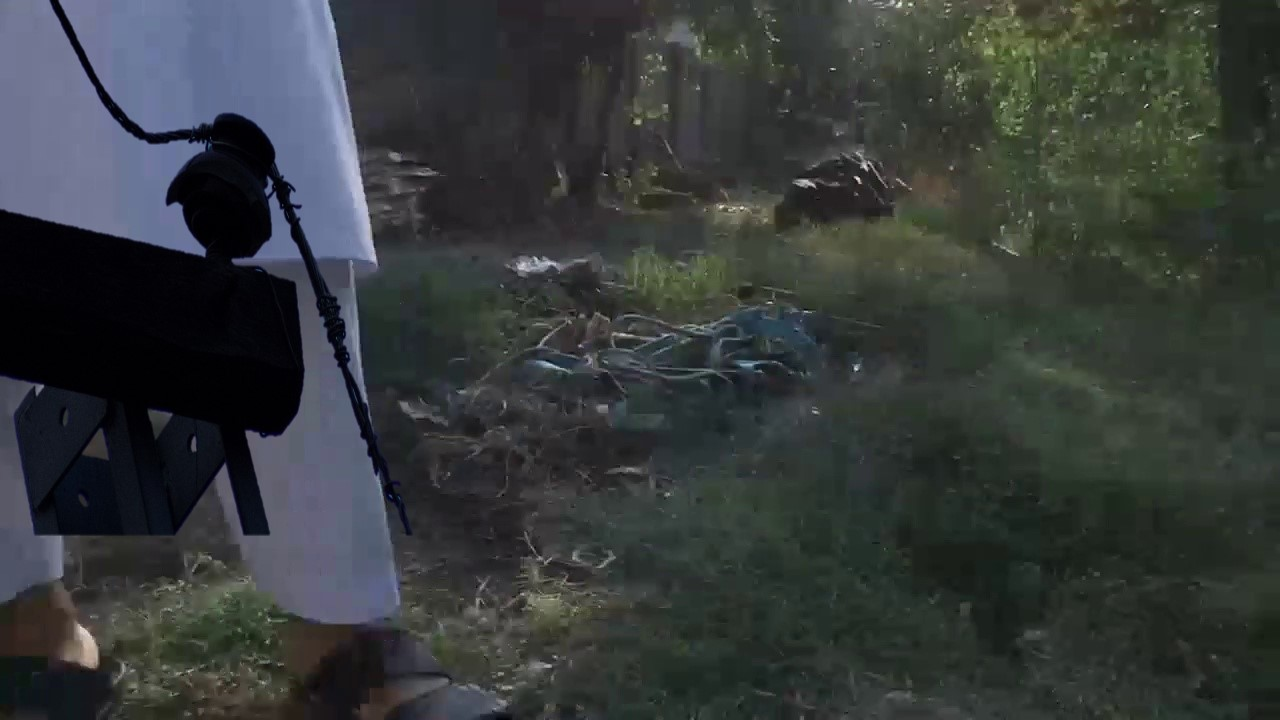defect_pin: (163, 111, 284, 265)
